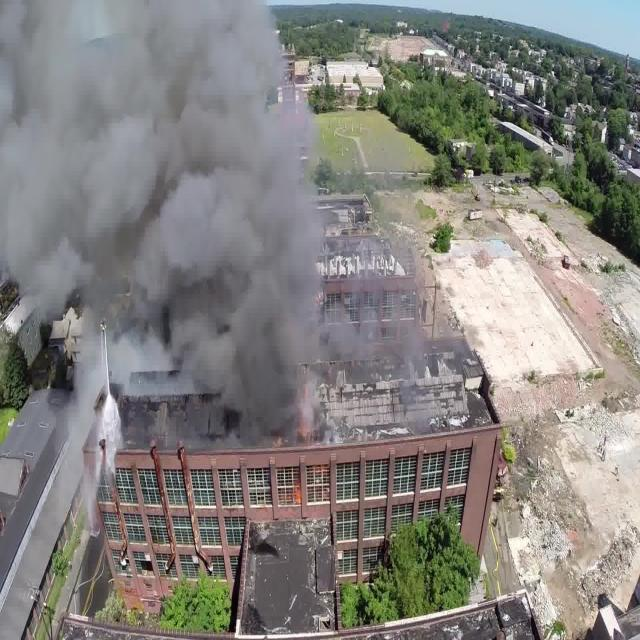Smoke: (0, 0, 308, 446)
